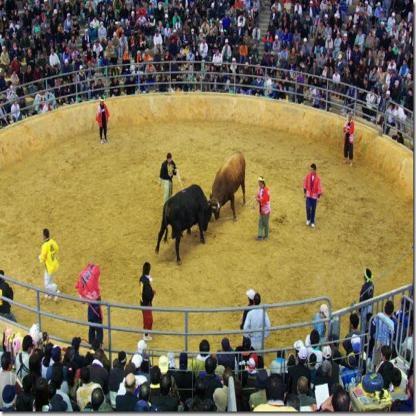face: (406, 328, 412, 337), (239, 1, 245, 10), (10, 357, 14, 370), (172, 79, 177, 88), (14, 83, 18, 91), (28, 50, 32, 58), (84, 51, 88, 59), (232, 84, 236, 92), (383, 65, 387, 73), (28, 108, 33, 114), (31, 61, 35, 68), (57, 43, 61, 50), (66, 1, 70, 8), (169, 5, 173, 12), (383, 33, 387, 40), (244, 66, 248, 73), (1, 69, 4, 78), (260, 181, 263, 189), (312, 168, 315, 176), (350, 115, 353, 123), (380, 118, 384, 124), (371, 119, 375, 125), (25, 86, 28, 94), (7, 38, 10, 46), (42, 12, 45, 20), (53, 15, 56, 23), (71, 99, 75, 105), (52, 66, 55, 74), (156, 50, 160, 56), (176, 87, 180, 93), (1, 27, 4, 35), (231, 77, 235, 83), (198, 14, 201, 22), (297, 54, 300, 62), (24, 33, 28, 39), (2, 9, 5, 16), (61, 79, 64, 86), (40, 66, 43, 73), (77, 51, 80, 58), (150, 68, 153, 75), (136, 87, 139, 94), (215, 73, 218, 80), (250, 52, 253, 59), (364, 79, 367, 86), (310, 77, 313, 84), (324, 78, 327, 85), (115, 77, 118, 84), (183, 75, 187, 80), (383, 88, 386, 94), (409, 92, 412, 98), (389, 68, 392, 74), (408, 76, 411, 82), (23, 114, 26, 120), (29, 67, 32, 73), (4, 67, 7, 73), (14, 43, 17, 49), (14, 32, 17, 38), (21, 21, 24, 27), (35, 21, 38, 27), (15, 10, 18, 16), (48, 17, 51, 23), (49, 6, 52, 12), (101, 89, 104, 95), (37, 87, 40, 93), (43, 84, 46, 90), (51, 40, 54, 46), (43, 46, 46, 52), (110, 69, 113, 75), (127, 69, 130, 75), (59, 8, 62, 14), (101, 23, 104, 29), (122, 33, 125, 39), (132, 45, 135, 51), (137, 13, 140, 19), (160, 23, 163, 29), (142, 65, 145, 71), (141, 74, 144, 80), (153, 72, 156, 78), (159, 75, 162, 81), (163, 87, 166, 93), (173, 59, 176, 65), (57, 80, 60, 86), (36, 59, 39, 65), (7, 27, 10, 33), (23, 13, 26, 19), (82, 10, 85, 16), (110, 6, 113, 12), (130, 54, 133, 60), (220, 74, 223, 80), (227, 58, 230, 64), (184, 29, 187, 35), (217, 21, 220, 27), (207, 10, 210, 16), (228, 4, 231, 10), (234, 12, 237, 18), (239, 43, 242, 49), (252, 25, 255, 31), (253, 60, 256, 66), (273, 7, 276, 13), (374, 68, 377, 74), (404, 97, 407, 103), (392, 59, 395, 65), (369, 18, 372, 24), (397, 18, 400, 24), (365, 4, 368, 10), (246, 76, 249, 82), (298, 87, 301, 93), (292, 58, 295, 64), (310, 97, 313, 103), (305, 99, 308, 105), (293, 95, 296, 101), (311, 68, 314, 74), (336, 69, 339, 75), (330, 68, 333, 74), (254, 10, 257, 16), (257, 41, 260, 47), (283, 56, 286, 62), (284, 15, 287, 21), (290, 15, 293, 21), (335, 25, 338, 31), (330, 15, 333, 21), (204, 21, 207, 27), (62, 27, 65, 33), (9, 117, 13, 121), (169, 158, 172, 163), (398, 134, 401, 139), (387, 94, 390, 99), (392, 72, 395, 77), (5, 94, 8, 99), (38, 15, 41, 20), (41, 80, 44, 85), (89, 63, 92, 68), (38, 50, 41, 55), (105, 55, 108, 60), (68, 15, 71, 20), (72, 37, 75, 42), (89, 1, 92, 6), (86, 32, 89, 37), (89, 48, 92, 53), (109, 44, 112, 49), (108, 38, 111, 43), (91, 24, 94, 29), (111, 22, 114, 27), (137, 21, 140, 26), (145, 4, 148, 9), (146, 51, 149, 56), (159, 6, 162, 11), (138, 47, 141, 52), (150, 60, 153, 65), (167, 52, 170, 57), (161, 56, 164, 61), (18, 100, 21, 105), (23, 100, 26, 105), (37, 68, 40, 73), (38, 46, 41, 51), (47, 26, 50, 31), (39, 33, 42, 38), (125, 47, 128, 52), (115, 45, 118, 50), (130, 67, 133, 72), (150, 75, 153, 80), (188, 61, 191, 66), (212, 66, 215, 71), (236, 79, 239, 84), (187, 10, 190, 15), (176, 37, 179, 42), (194, 21, 197, 26), (243, 46, 246, 51), (241, 15, 244, 20), (272, 55, 275, 60), (275, 3, 278, 8), (355, 75, 358, 80), (350, 61, 353, 66), (404, 61, 407, 66), (369, 34, 372, 39), (382, 24, 385, 29), (359, 31, 362, 36), (356, 48, 359, 53), (361, 21, 364, 26), (271, 75, 274, 80), (280, 84, 283, 89), (258, 65, 261, 70), (285, 72, 288, 77), (322, 89, 325, 94), (306, 78, 309, 83), (325, 66, 328, 71), (330, 57, 333, 62), (322, 55, 325, 60), (335, 61, 338, 66), (267, 52, 270, 57), (295, 21, 298, 26), (279, 13, 282, 18), (312, 53, 315, 58), (293, 50, 296, 55), (317, 53, 320, 58), (328, 37, 331, 42), (326, 1, 329, 6), (317, 7, 320, 12), (342, 44, 345, 49), (349, 18, 352, 23), (330, 4, 333, 9), (276, 39, 279, 44), (352, 29, 355, 34), (338, 34, 341, 39), (381, 49, 384, 54), (240, 71, 242, 78), (14, 101, 17, 105), (4, 47, 6, 53), (31, 40, 33, 46), (27, 10, 29, 16), (102, 101, 105, 105), (59, 54, 61, 60), (157, 76, 159, 82), (2, 102, 4, 108), (8, 89, 10, 95), (151, 88, 154, 92), (187, 70, 189, 76), (239, 84, 241, 90), (164, 3, 166, 9), (192, 30, 195, 34), (174, 32, 177, 36), (194, 41, 196, 47), (204, 38, 206, 44), (203, 6, 205, 12), (226, 42, 229, 46), (247, 30, 249, 36), (369, 51, 371, 57), (287, 96, 289, 102), (299, 97, 301, 103), (280, 28, 282, 34), (284, 10, 287, 14), (308, 57, 311, 61), (316, 40, 318, 46), (314, 18, 316, 24), (322, 12, 324, 18), (348, 46, 350, 52), (47, 63, 49, 69), (391, 106, 393, 111), (378, 88, 380, 93), (396, 85, 398, 90), (11, 85, 13, 90), (4, 16, 6, 21), (26, 2, 28, 7), (39, 1, 41, 6), (82, 69, 84, 74), (91, 64, 93, 69), (52, 50, 54, 55), (42, 24, 44, 29), (64, 42, 66, 47), (67, 47, 69, 52), (101, 58, 103, 63), (127, 80, 129, 85), (82, 3, 84, 8), (89, 18, 91, 23), (98, 43, 100, 48), (103, 13, 105, 18), (116, 10, 118, 15), (133, 14, 135, 19), (157, 32, 159, 37), (140, 66, 142, 71), (131, 77, 133, 82), (163, 73, 165, 78), (166, 75, 168, 80), (166, 65, 168, 70), (179, 53, 181, 58), (168, 75, 170, 80), (3, 122, 5, 127), (2, 121, 4, 126), (24, 111, 26, 116), (22, 103, 24, 108), (5, 41, 7, 46), (5, 46, 7, 51), (29, 6, 31, 11), (104, 7, 106, 12), (175, 3, 177, 8), (182, 38, 184, 43), (182, 15, 184, 20), (197, 52, 199, 57), (196, 10, 198, 15), (198, 40, 200, 45), (211, 32, 213, 37), (213, 23, 215, 28), (236, 46, 238, 51), (231, 23, 233, 28), (245, 7, 247, 12), (256, 27, 258, 32), (268, 32, 270, 37), (368, 69, 370, 74), (361, 60, 363, 65), (375, 57, 377, 62), (390, 47, 392, 52), (394, 26, 396, 31), (378, 5, 380, 10), (258, 75, 260, 80), (290, 88, 292, 93), (315, 79, 317, 84), (314, 63, 316, 68), (251, 41, 253, 46), (286, 29, 288, 34), (296, 30, 298, 35), (292, 8, 294, 13), (297, 14, 299, 19), (305, 42, 307, 47), (311, 3, 313, 8), (321, 21, 323, 26), (317, 26, 319, 31), (319, 35, 321, 40), (327, 6, 329, 11), (392, 39, 395, 42), (284, 87, 287, 90), (271, 23, 274, 26), (397, 104, 399, 108), (14, 71, 16, 75), (10, 21, 12, 25), (105, 92, 107, 96), (99, 81, 101, 85), (93, 83, 95, 87), (56, 67, 58, 71), (42, 39, 44, 43), (94, 60, 96, 64), (75, 21, 77, 25), (95, 17, 97, 21), (115, 36, 117, 40), (146, 13, 148, 17), (21, 115, 23, 119), (33, 109, 35, 113), (51, 106, 53, 110), (41, 104, 43, 108), (46, 1, 48, 5), (224, 63, 226, 67), (218, 50, 220, 54), (210, 50, 212, 54), (176, 13, 178, 17), (181, 4, 183, 8), (222, 32, 224, 36), (221, 42, 223, 46), (294, 74, 296, 78), (291, 80, 293, 84), (288, 59, 290, 63), (289, 71, 291, 75), (318, 90, 320, 94), (298, 4, 300, 8), (282, 8, 284, 12), (297, 42, 299, 46), (328, 24, 330, 28), (326, 17, 328, 21), (15, 120, 17, 123), (6, 24, 8, 27), (67, 63, 69, 66), (87, 25, 89, 28), (151, 5, 153, 8), (148, 22, 150, 25), (146, 39, 148, 42), (181, 76, 183, 79), (158, 65, 160, 68), (209, 65, 211, 68), (191, 45, 193, 48), (215, 44, 217, 47), (226, 37, 228, 40), (250, 15, 252, 18), (381, 12, 383, 15), (254, 6, 256, 9), (336, 17, 338, 20), (338, 8, 340, 11), (279, 20, 280, 25), (34, 5, 35, 9), (82, 22, 83, 26), (293, 41, 294, 45)
